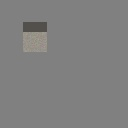supply_truck: (23, 22, 47, 52)
